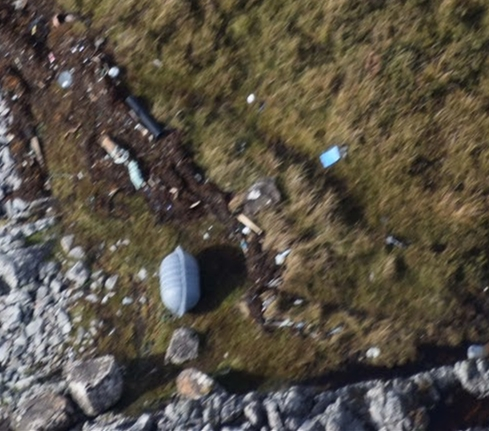scattered_barrel: (231, 210, 294, 271)
straight_bar: (121, 92, 168, 143)
together_barrel: (43, 11, 174, 196)
white_in_green: (115, 220, 241, 341), (297, 123, 362, 188), (224, 74, 275, 125)
